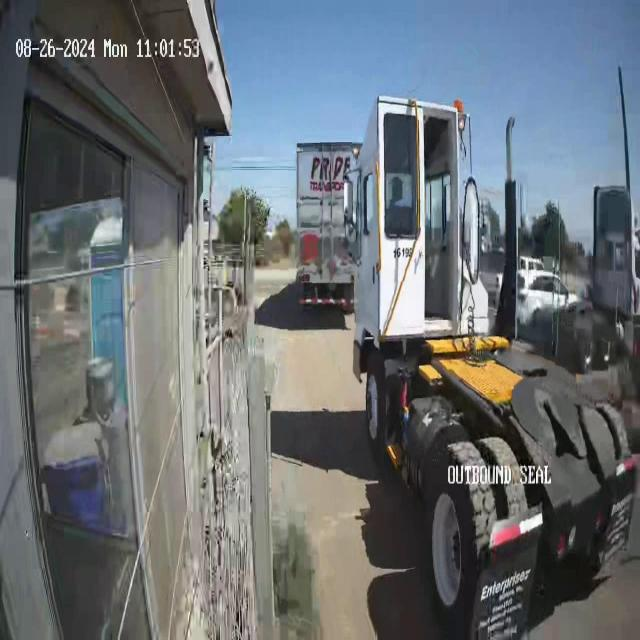BOBTAIL: (342, 90, 636, 617)
TRUCK_CONTAINER: (295, 141, 361, 306)
